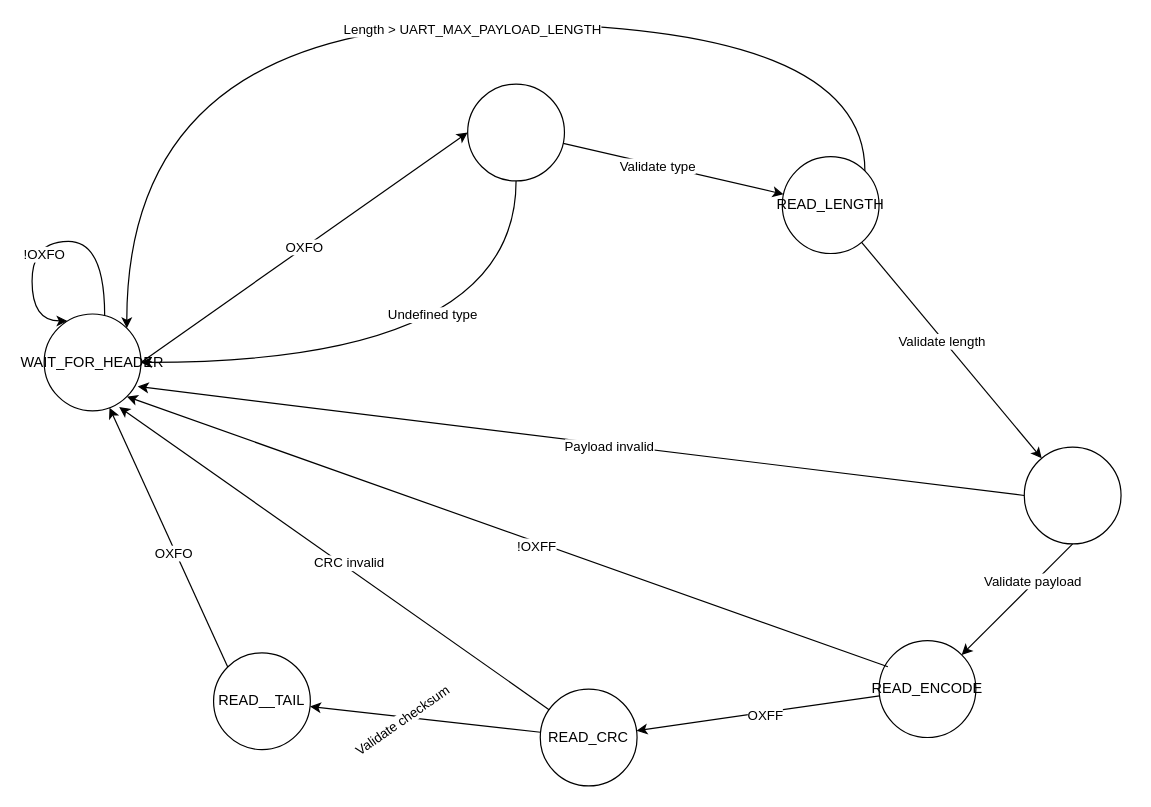
The diagram is 1151 pixels wide and 807 high, and some of its shapes have lost their labels. Each missing label, with the centre of its shape:
"READ_PAYLOAD" goes at pixel 1072 495.
"READ_TYPE" goes at pixel 515 132.
